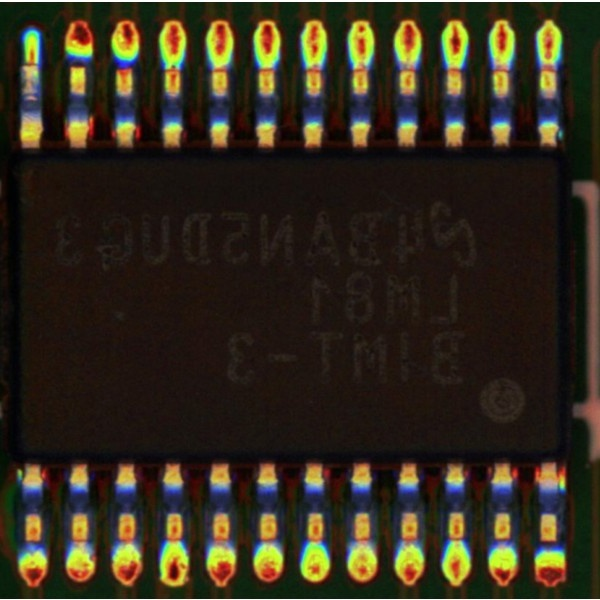Bad_podu: (24, 46, 39, 75)
